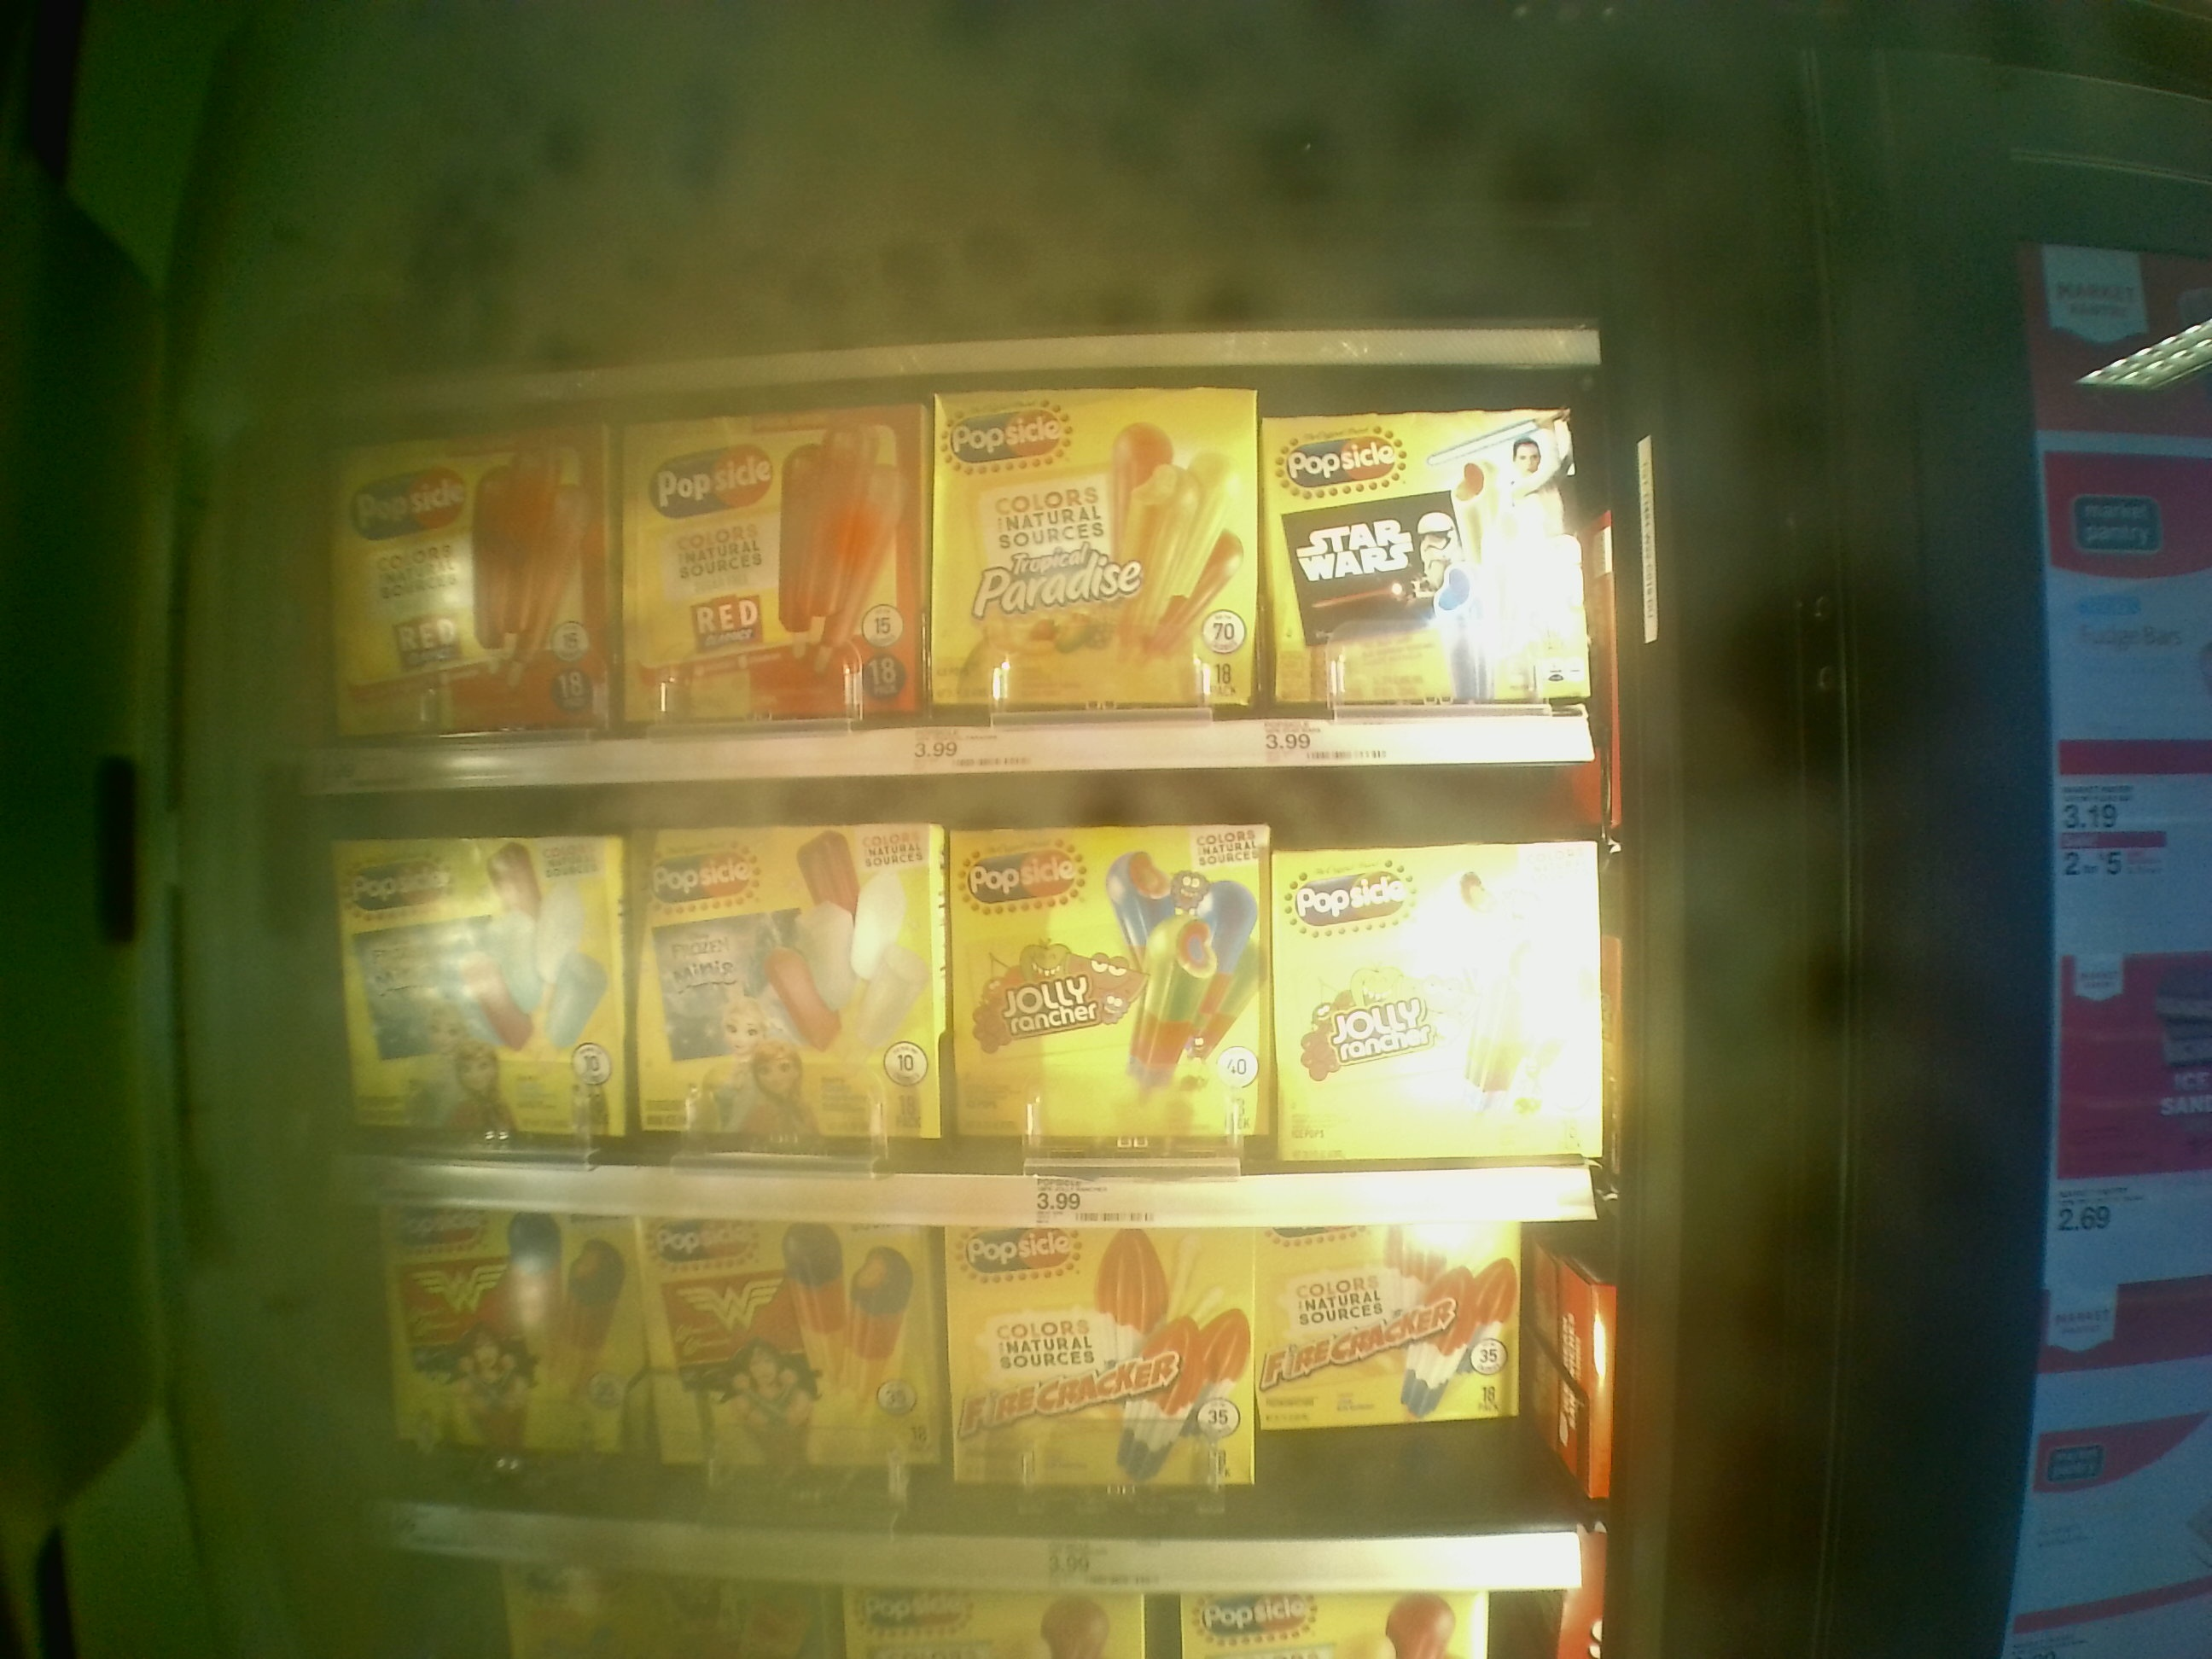shelf: (319, 270, 1618, 758), (329, 758, 1623, 1201), (336, 1194, 1583, 1582)
